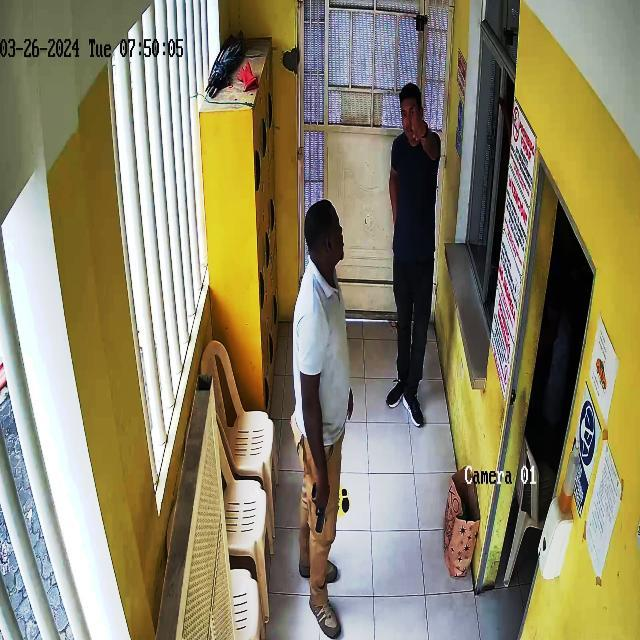Gun: (306, 471, 336, 552)
